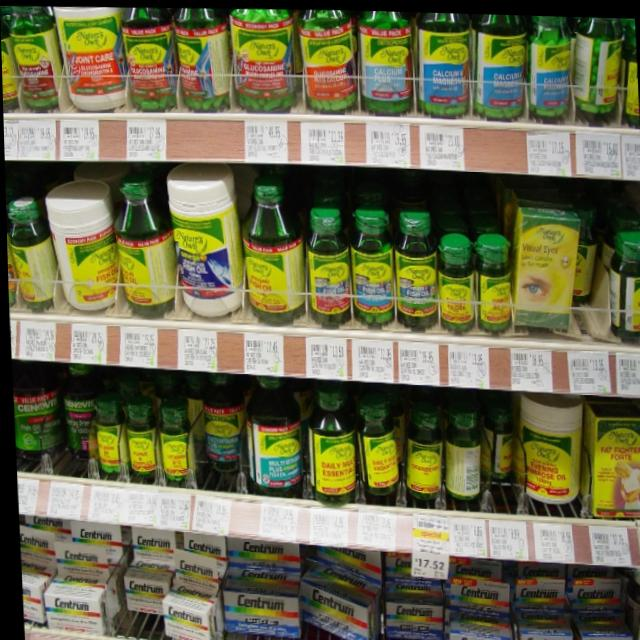q4: (229, 6, 303, 114), (173, 6, 238, 108), (117, 5, 180, 110), (299, 7, 362, 105)
